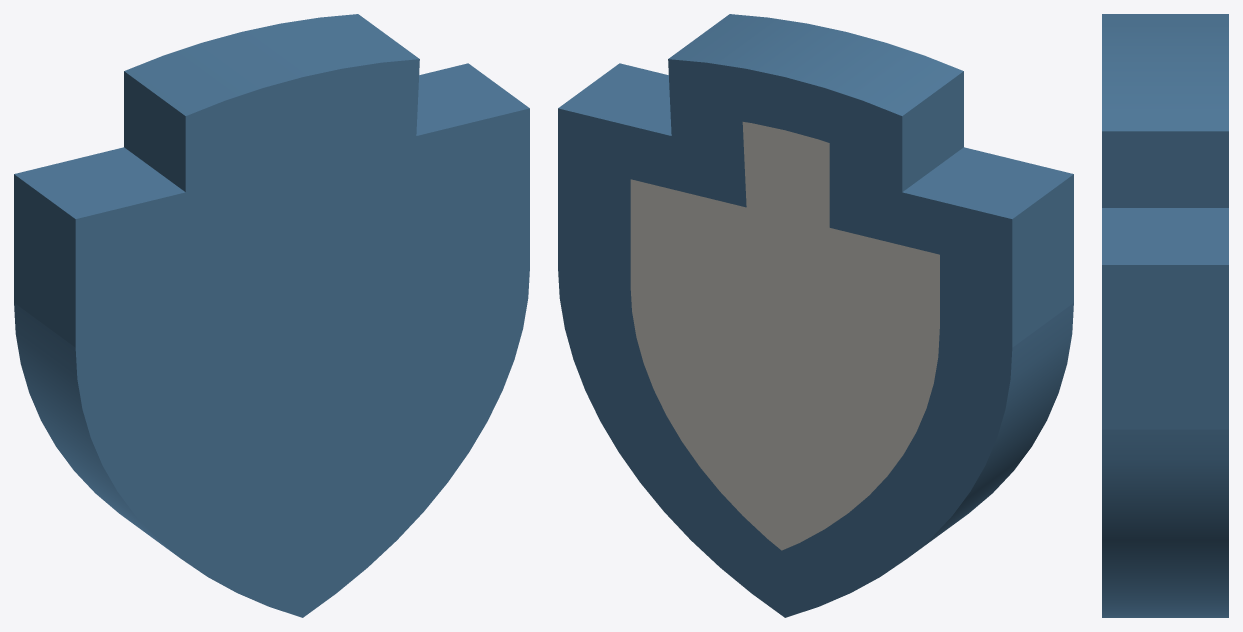
File: shieldBlue.fbx
The picture shows the model from 3 angles, left to right: view 1: azimuth 30°, elevation 25°; view 2: azimuth 150°, elevation 25°; view 3: azimuth 270°, elevation 25°; orthographic projection. The views are drawn at different scales.
Parts seen in each view (by area): view 1: shieldBlue; view 2: shieldBlue; view 3: shieldBlue.
Part boxes in pixels (<box>): shieldBlue: <box>14,14,529,617</box>; shieldBlue: <box>558,14,1073,617</box>; shieldBlue: <box>1102,14,1228,617</box>.
Bounding box in the file's own units: 2.4 × 2.73 × 0.564.
